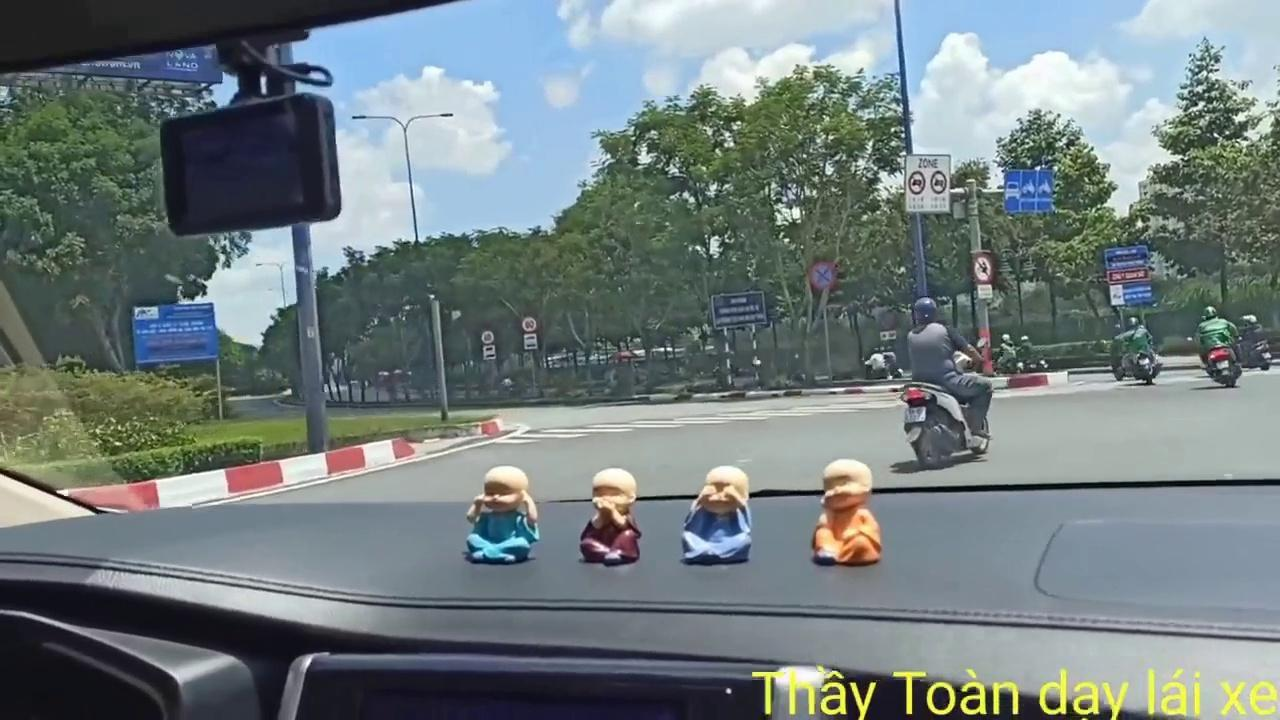Biển phụ: (524, 332, 538, 351), (482, 345, 496, 362)
Cấm cac phương tiện hoạt động trong khung giờ cố định: (905, 153, 951, 214)
Cấm dừng - Cấm đỗ: (808, 260, 837, 292)
Cấm xe máy: (970, 252, 996, 284)
GIơi hạn tốc độ 60Km/h: (480, 328, 495, 344)
Giới hạn tốc độ 80Km/h: (521, 314, 537, 332)
Khác: (131, 302, 220, 364), (1103, 247, 1157, 305)
Làn đường cho từng xe: (1003, 169, 1053, 215)
